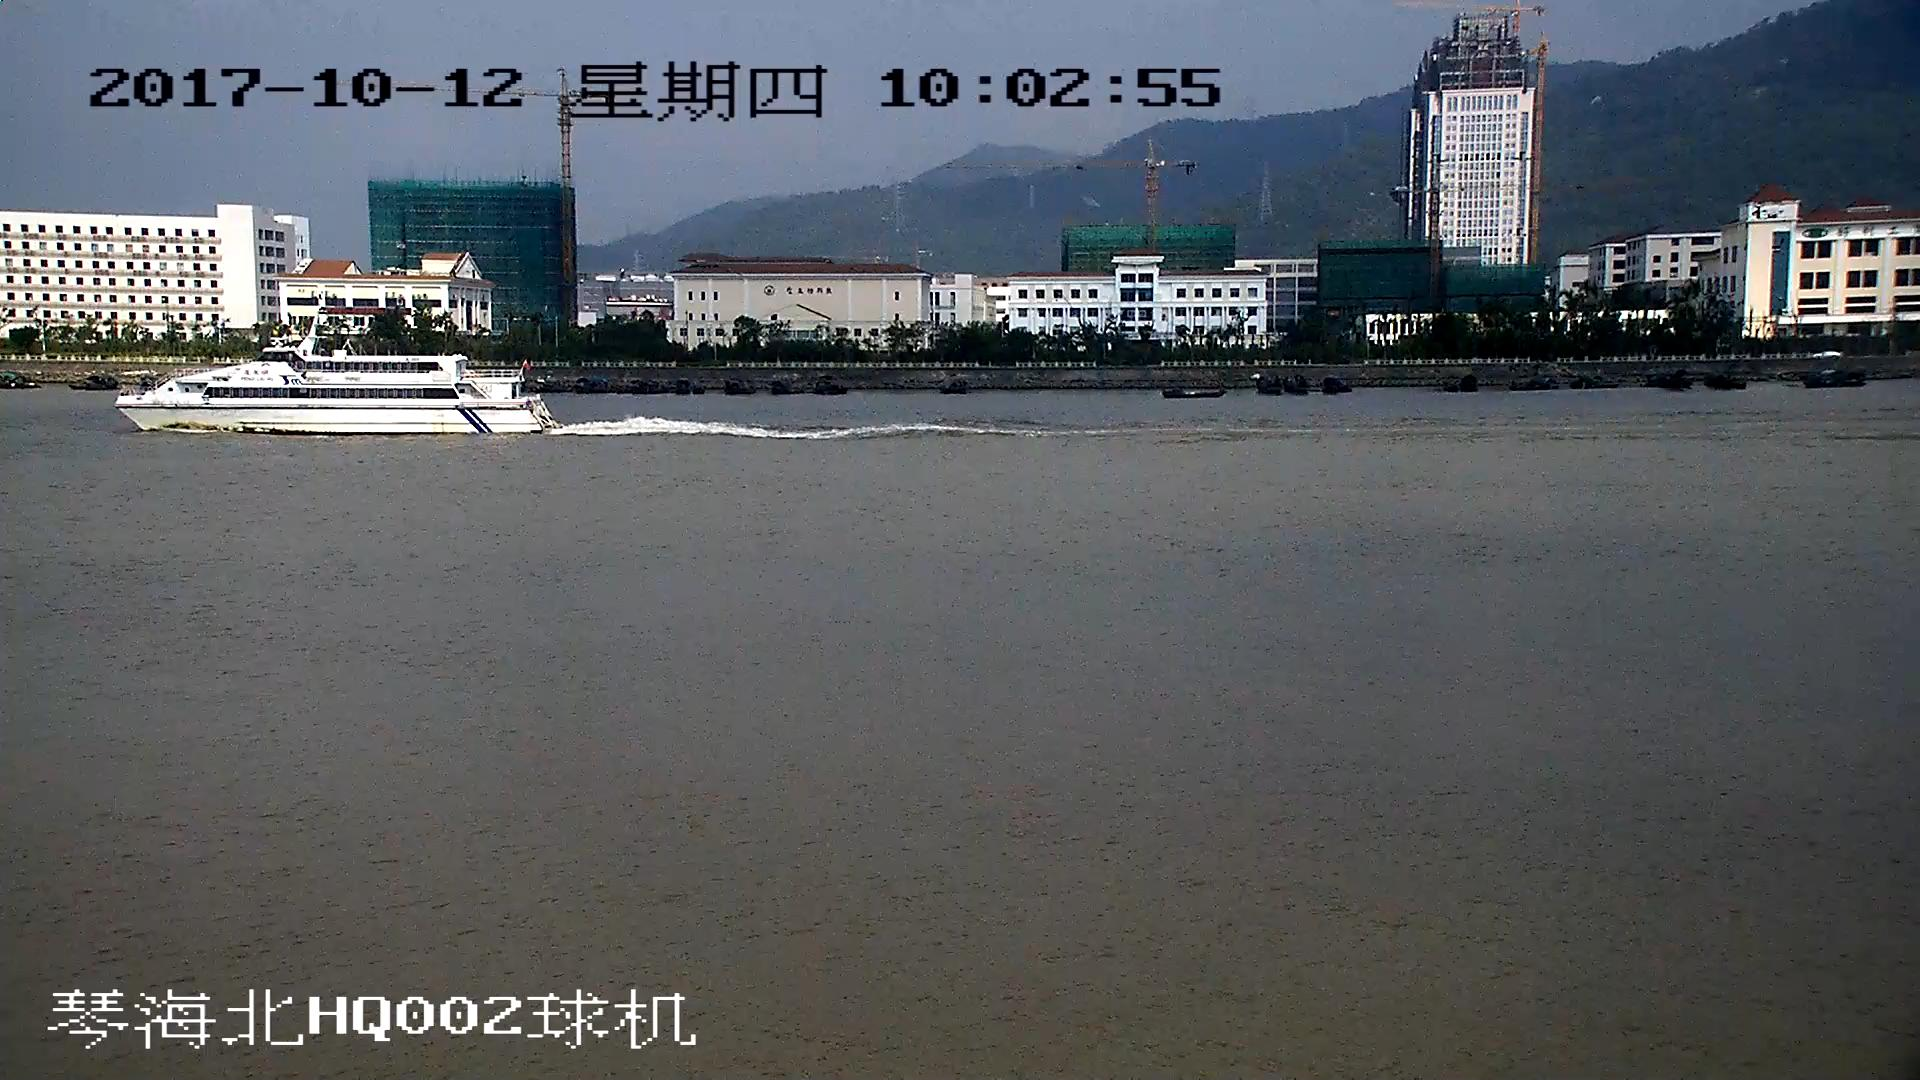passenger ship: (122, 296, 561, 435)
